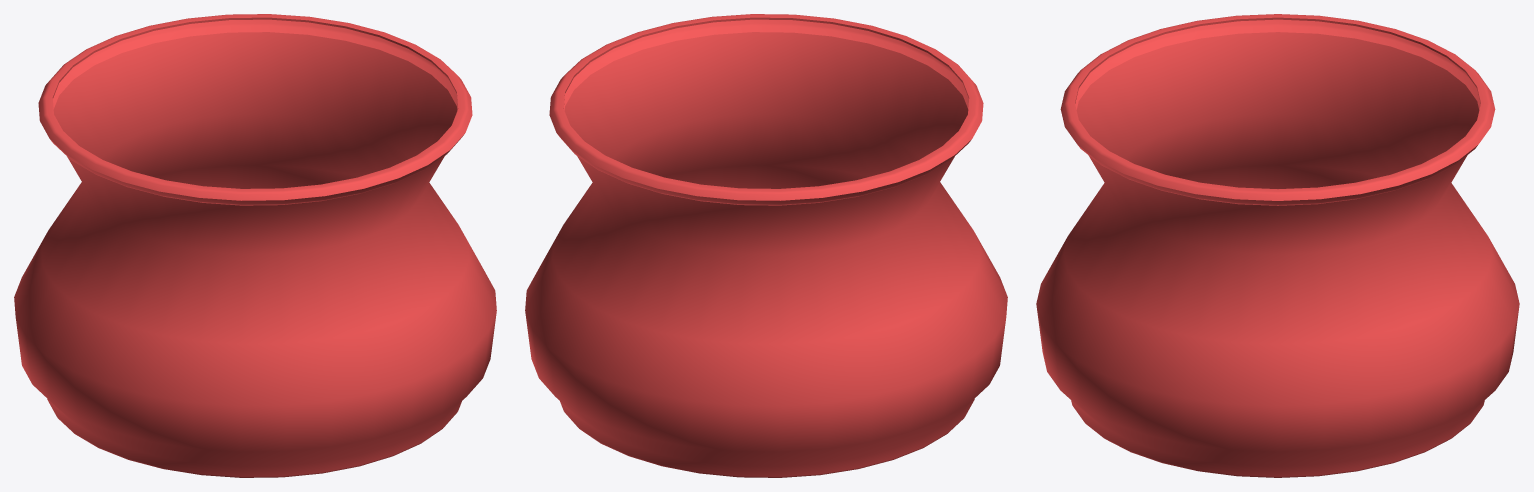
Rendered from Caldero.fbx.
3 renders of one model, left to right at view 1: azimuth 30°, elevation 25°; view 2: azimuth 150°, elevation 25°; view 3: azimuth 270°, elevation 25°, orthographic.
Parts seen in each view (by area): view 1: Caldera; view 2: Caldera; view 3: Caldera.
Boxes of the visible parts, x1,y1,x2,y2 form: Caldera: (14, 14, 496, 477); Caldera: (525, 14, 1007, 477); Caldera: (1036, 14, 1519, 477).
Size of the model in its own units: 41.83 by 27.43 by 41.83.
